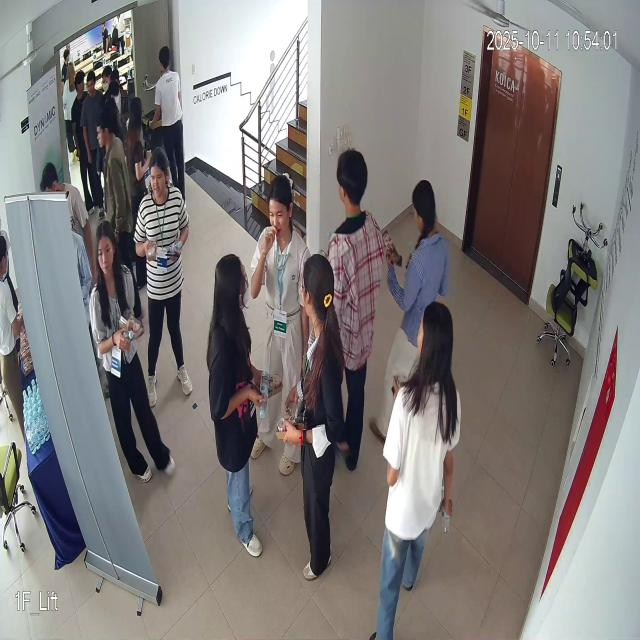face: (264, 166, 300, 248), (144, 138, 172, 214), (94, 219, 119, 275)
